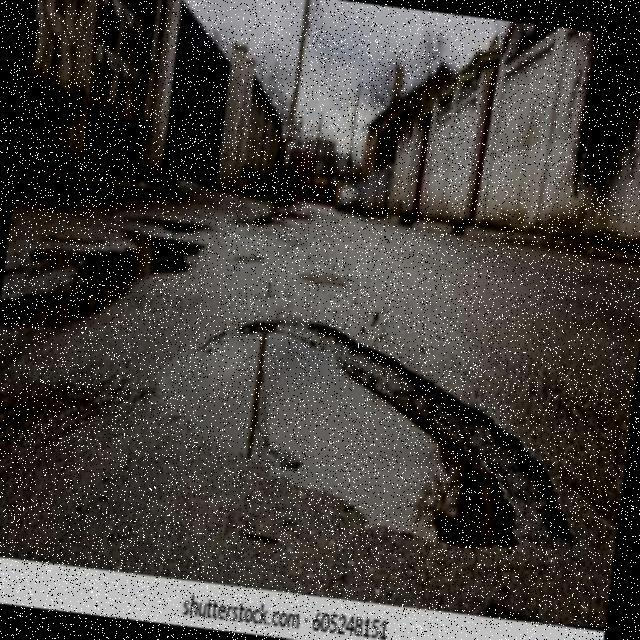Pothole: (159, 317, 574, 549)
